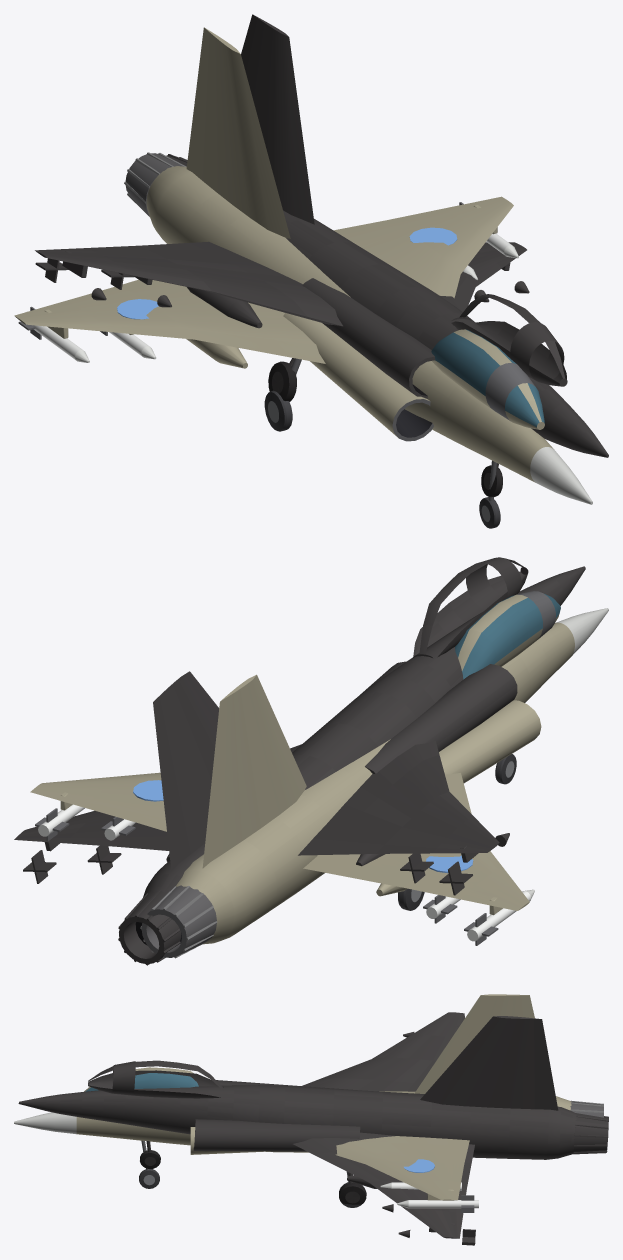
File: lightFighter__mirage_2000_5f.glb
3 views of the same model, one above another, from view 1: azimuth 30°, elevation 25°; view 2: azimuth 150°, elevation 25°; view 3: azimuth 270°, elevation 25° (orthographic). The views are drawn at different scales.
Visible parts, largest first — view 1: Fuselage_Mesh, Wreck; view 2: Fuselage_Mesh, Wreck; view 3: Wreck, Fuselage_Mesh.
Boxes of the visible parts, box(x1,y1,x2,y2) form: Fuselage_Mesh: box(14, 27, 592, 528); Wreck: box(35, 14, 608, 497); Fuselage_Mesh: box(30, 591, 608, 958); Wreck: box(14, 557, 585, 965); Wreck: box(18, 1012, 608, 1245); Fuselage_Mesh: box(14, 994, 603, 1212).
Size of what is drawn, in the model's own units: 9.41 by 5.2 by 14.51.
